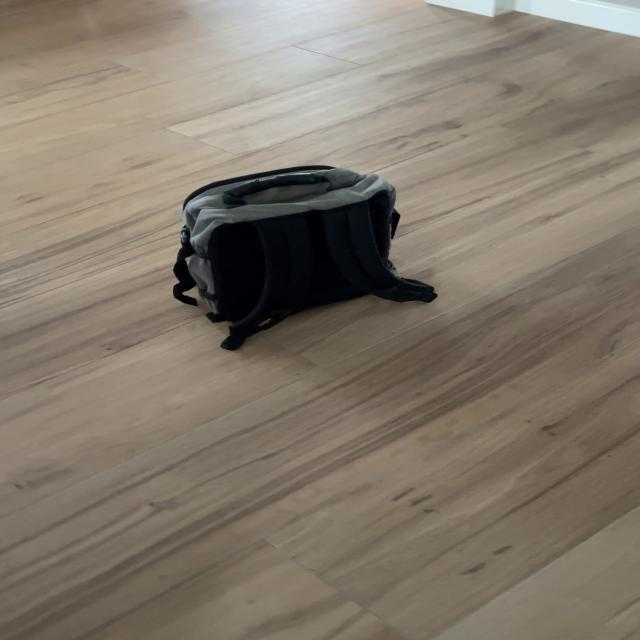backpack: (156, 156, 427, 350)
